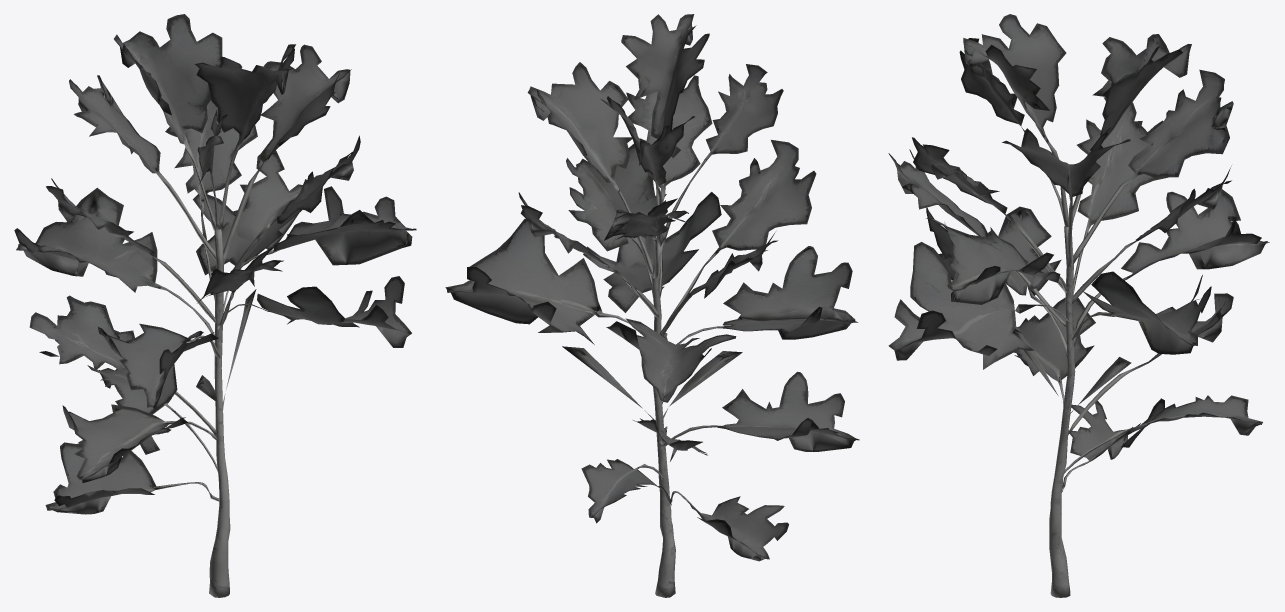
The model's file is selected.glb.
3 views of the same model, side by side, from view 1: azimuth 30°, elevation 25°; view 2: azimuth 150°, elevation 25°; view 3: azimuth 270°, elevation 25° (orthographic). The views are drawn at different scales.
Parts seen in each view (by area): view 1: tripo_node_e40bc84b-6bf2-4de1-a6e2-4e743982dce7; view 2: tripo_node_e40bc84b-6bf2-4de1-a6e2-4e743982dce7; view 3: tripo_node_e40bc84b-6bf2-4de1-a6e2-4e743982dce7.
Boxes of the visible parts, box(x1,y1,x2,y2) form: tripo_node_e40bc84b-6bf2-4de1-a6e2-4e743982dce7: box(14, 14, 416, 597); tripo_node_e40bc84b-6bf2-4de1-a6e2-4e743982dce7: box(445, 14, 859, 597); tripo_node_e40bc84b-6bf2-4de1-a6e2-4e743982dce7: box(888, 14, 1269, 597).
Size of the model in its own units: 0.6191 by 0.998 by 0.6074.
Materials: 1 (1 with a texture image).
